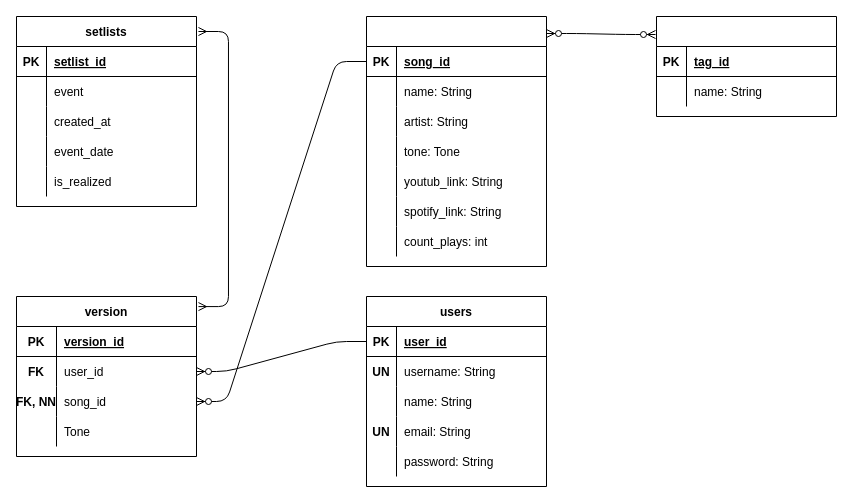
The diagram is 853 pixels wide and 503 high, and some of its shapes have lost their labels. Each missing label, with the box of its shape:
songs: (366, 16, 546, 266)
tags: (656, 16, 836, 116)
